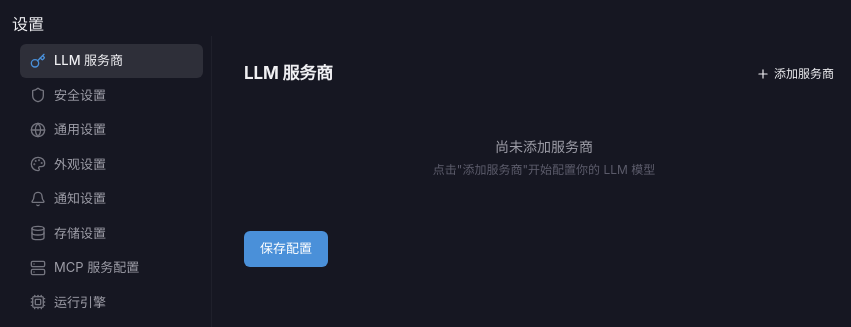
Scenario: SettingsView — E2E 关键路径 › renders theme options in appearance section
The width and height of the screenshot is (851, 327).
Click the button "外观设置".
click(112, 164)  # box [20,148,203,181]
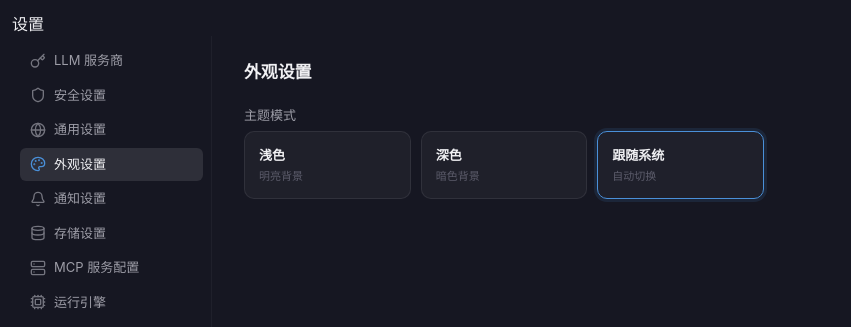
Now the text "浅色" is shown, box [259,147,285,163]
Now the text "深色" is shown, box [436,147,462,163]
Now the text "跟随系统" is shown, box [612,147,664,163]
